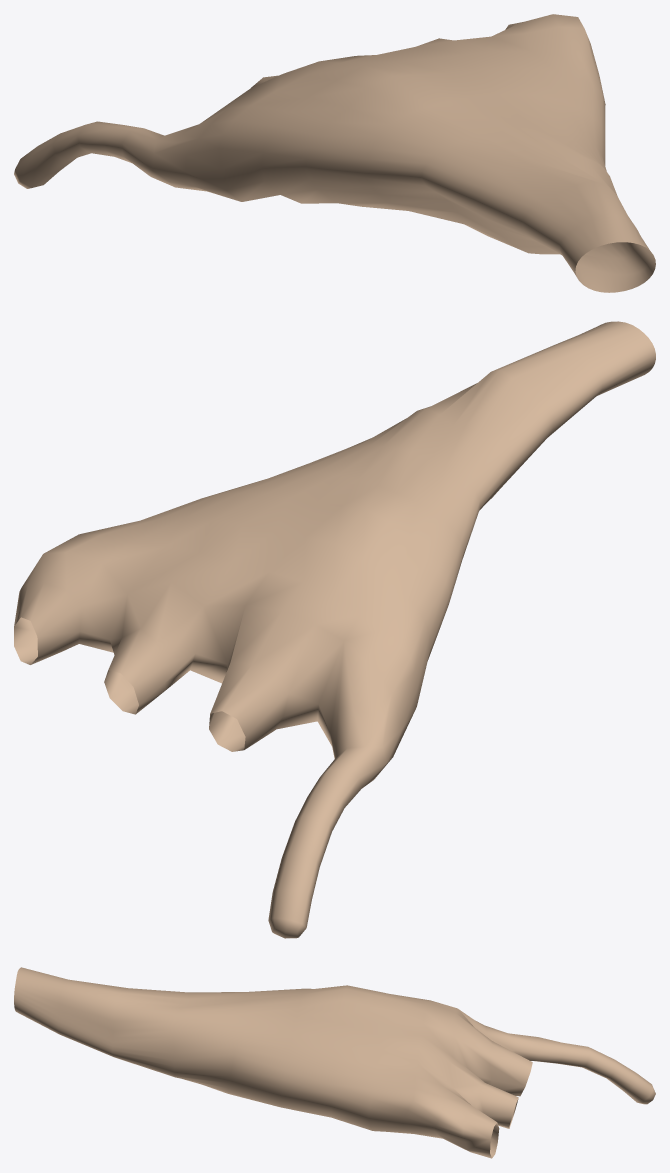
The picture shows the model from 3 angles, top to bottom: view 1: azimuth 30°, elevation 25°; view 2: azimuth 150°, elevation 25°; view 3: azimuth 270°, elevation 25°; orthographic projection. The views are drawn at different scales.
Visible parts, largest first — view 1: 左侧屈肌总腱鞘; view 2: 左侧屈肌总腱鞘; view 3: 左侧屈肌总腱鞘.
Boxes of the visible parts, x1,y1,x2,y2 form: 左侧屈肌总腱鞘: (14,14,655,292); 左侧屈肌总腱鞘: (14,321,655,938); 左侧屈肌总腱鞘: (14,967,655,1158).
Bounding box in the file's own units: 0.0917 × 0.0529 × 0.179.
